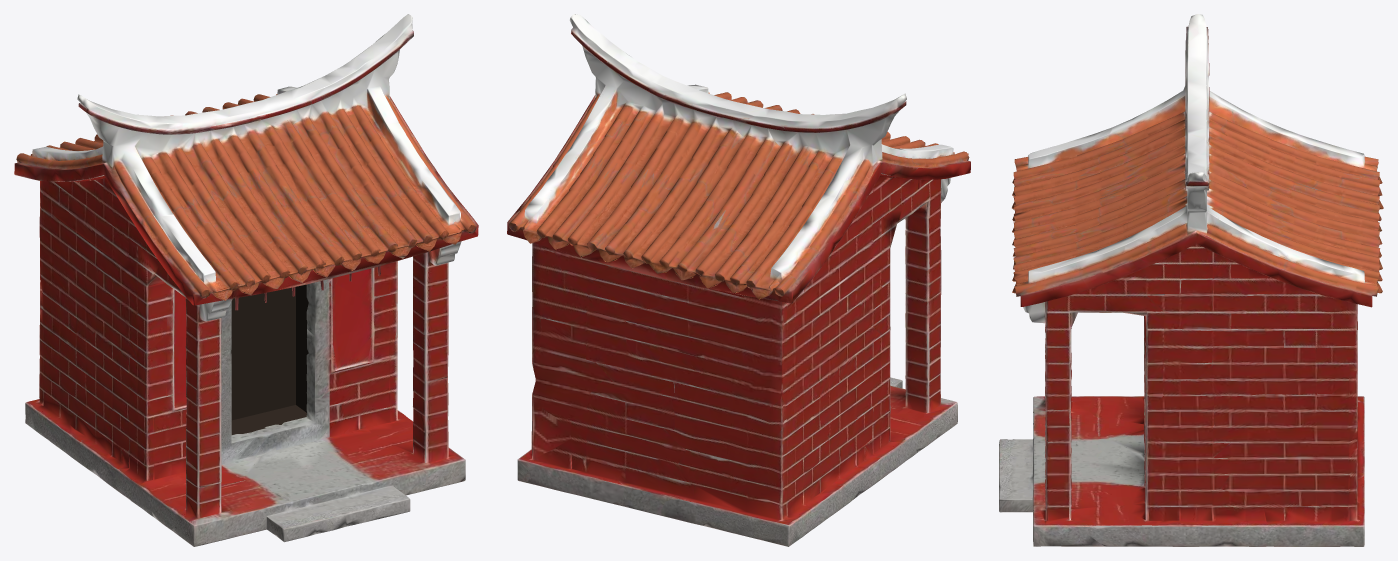
The model's file is temple.glb.
The picture shows the model from 3 angles, left to right: view 1: azimuth 30°, elevation 25°; view 2: azimuth 150°, elevation 25°; view 3: azimuth 270°, elevation 25°; orthographic projection. The views are drawn at different scales.
Parts seen in each view (by area): view 1: meshes0, meshes0_1, meshes0_2, meshes0_4; view 2: meshes0; view 3: meshes0.
Part boxes in pixels (x1,y1,x2,y2): meshes0: (14, 14, 478, 546); meshes0_1: (231, 287, 295, 420); meshes0_2: (296, 284, 308, 412); meshes0_4: (231, 405, 306, 434); meshes0: (507, 14, 970, 546); meshes0: (999, 14, 1383, 546).
Size of the model in its own units: 0.3 by 0.3419 by 0.3062.
5 materials, 1 textured.
